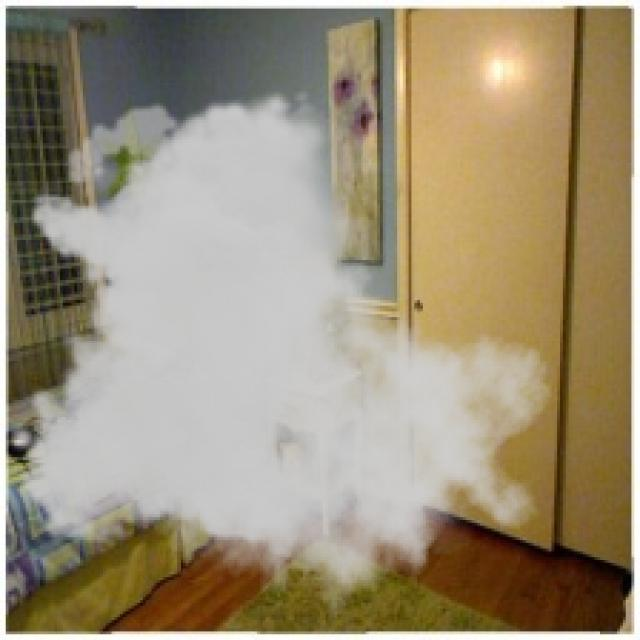smoke: (6, 89, 554, 637)
